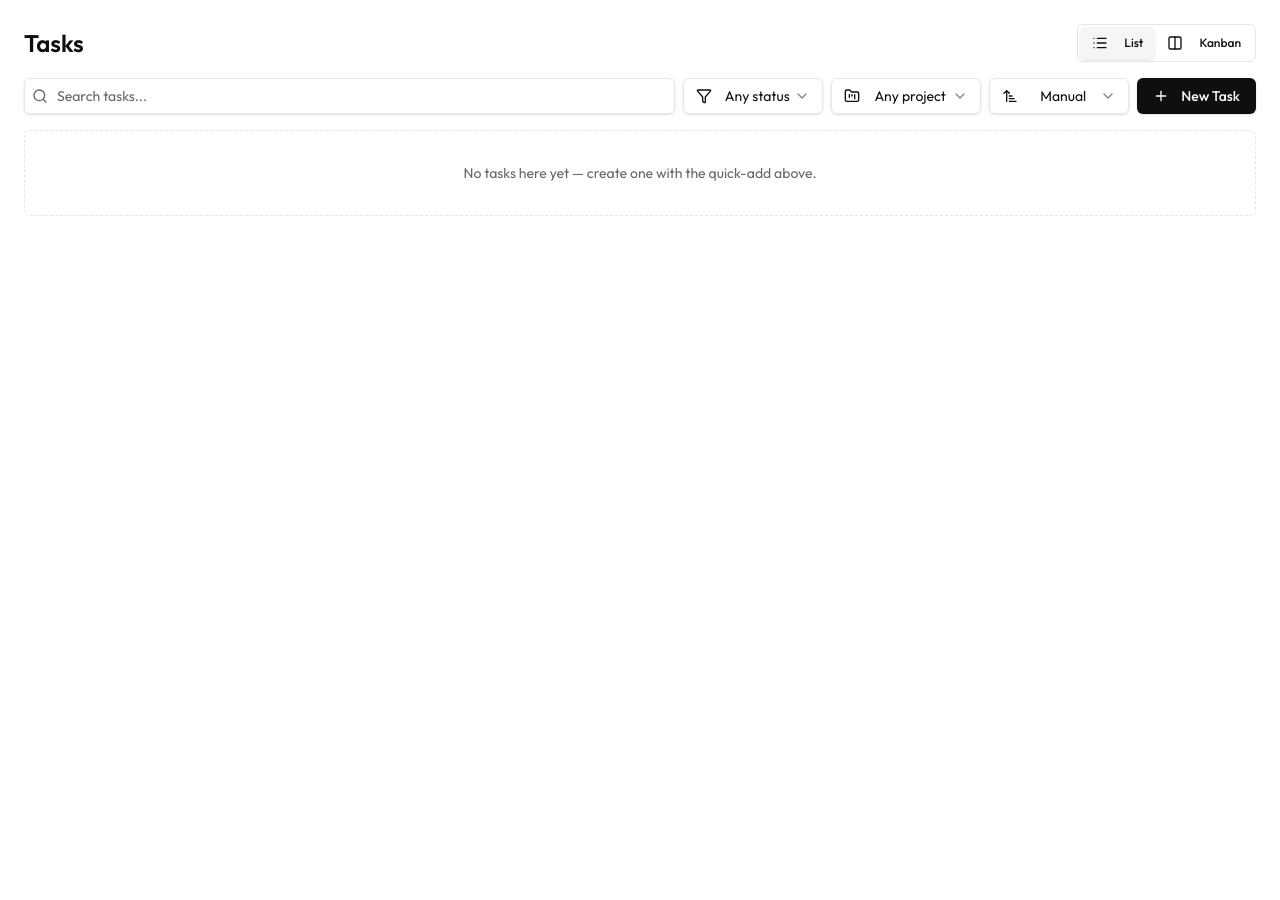
Test case: TasksPage › opens the create task panel without creating an untitled task
Click the button "New Task": (1197, 96) [1137,78,1256,114]
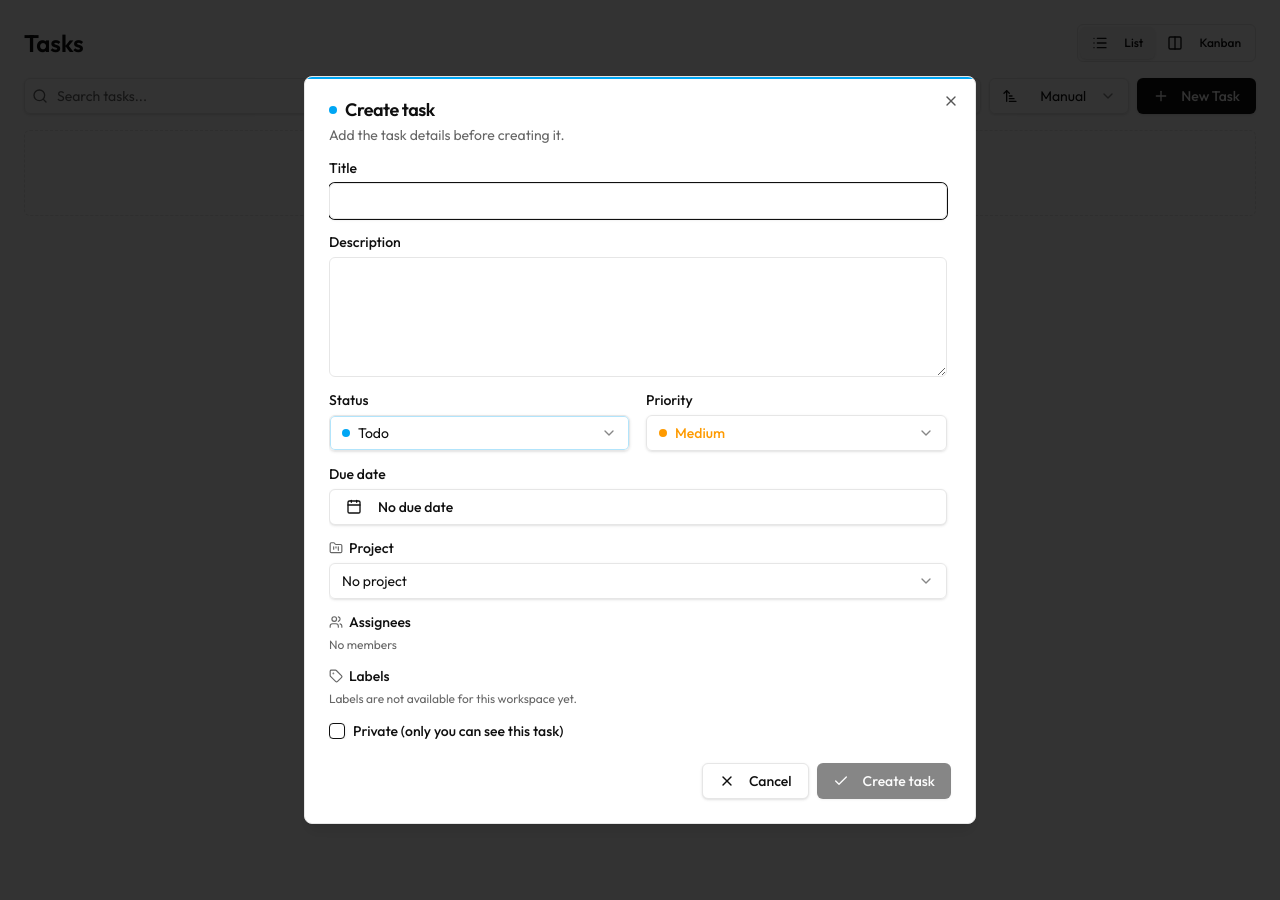
Check: the heading "Create task" is shown, box [329,98,435,121]
Check: the field labelled "Title" is empty, box [329,183,947,219]
